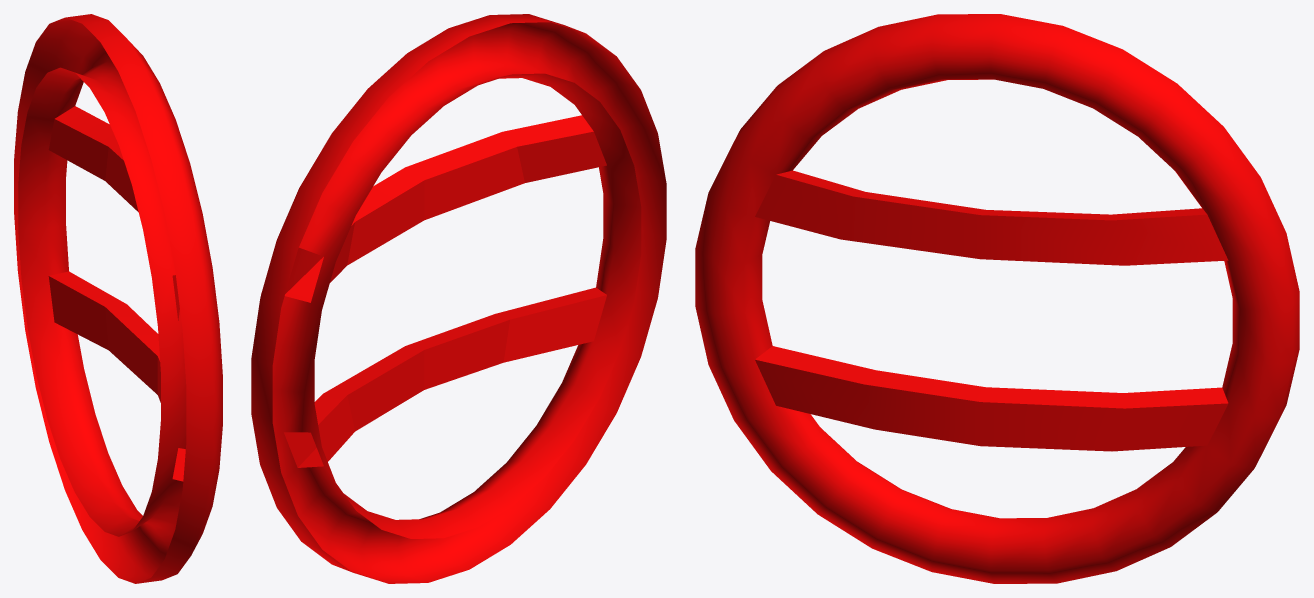
Rendered from WitchShop_AirVent.fbx.
The picture shows the model from 3 angles, left to right: view 1: azimuth 30°, elevation 25°; view 2: azimuth 150°, elevation 25°; view 3: azimuth 270°, elevation 25°; orthographic projection. The views are drawn at different scales.
Visible parts, largest first — view 1: AirVent; view 2: AirVent; view 3: AirVent.
Part boxes in pixels (<box>): AirVent: <box>14,14,222,583</box>; AirVent: <box>251,14,666,583</box>; AirVent: <box>695,14,1299,583</box>.
Size of the model in its own units: 47.62 by 169 by 165.
